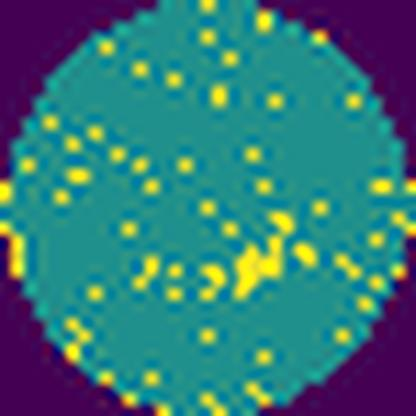Loc: (232, 208, 295, 299)
